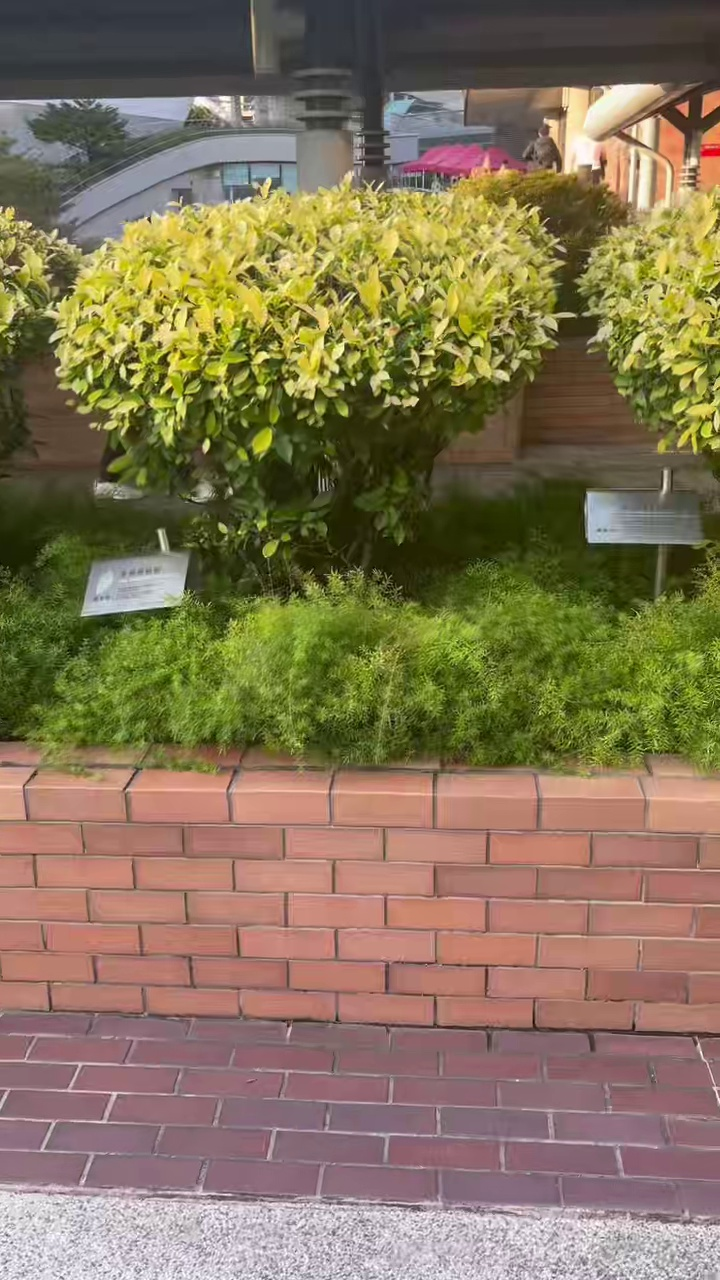Golden-leaves Fig: (53, 180, 556, 560)
